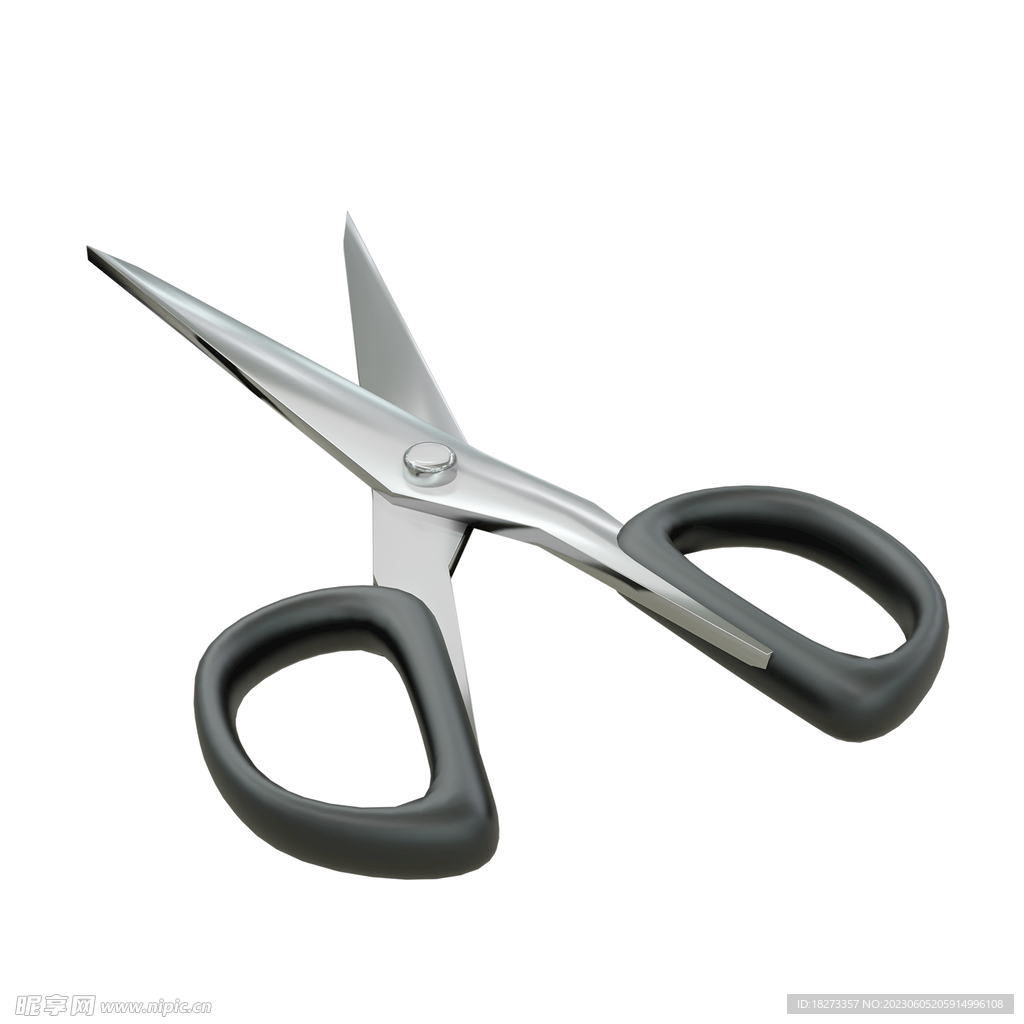scissors: (86, 208, 957, 883)
